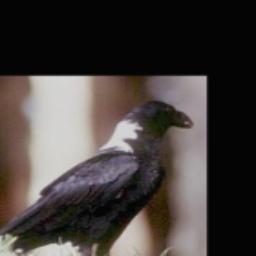Crow: (0, 94, 196, 256)
